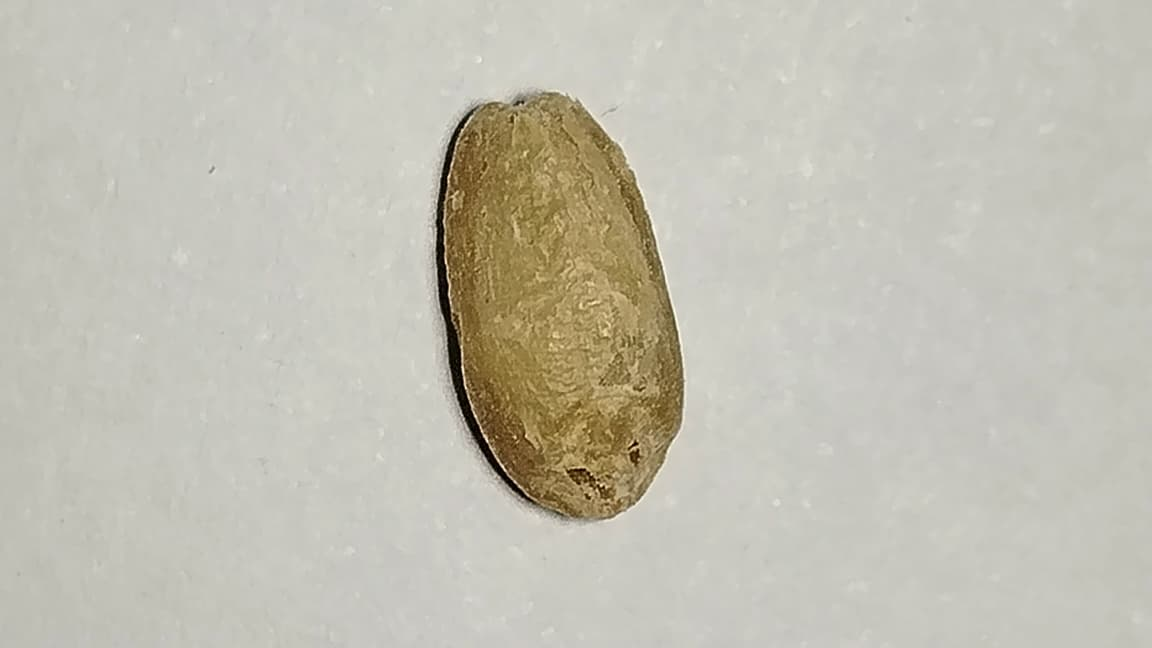damage: (441, 93, 682, 517)
insectdamage: (508, 384, 665, 514)
